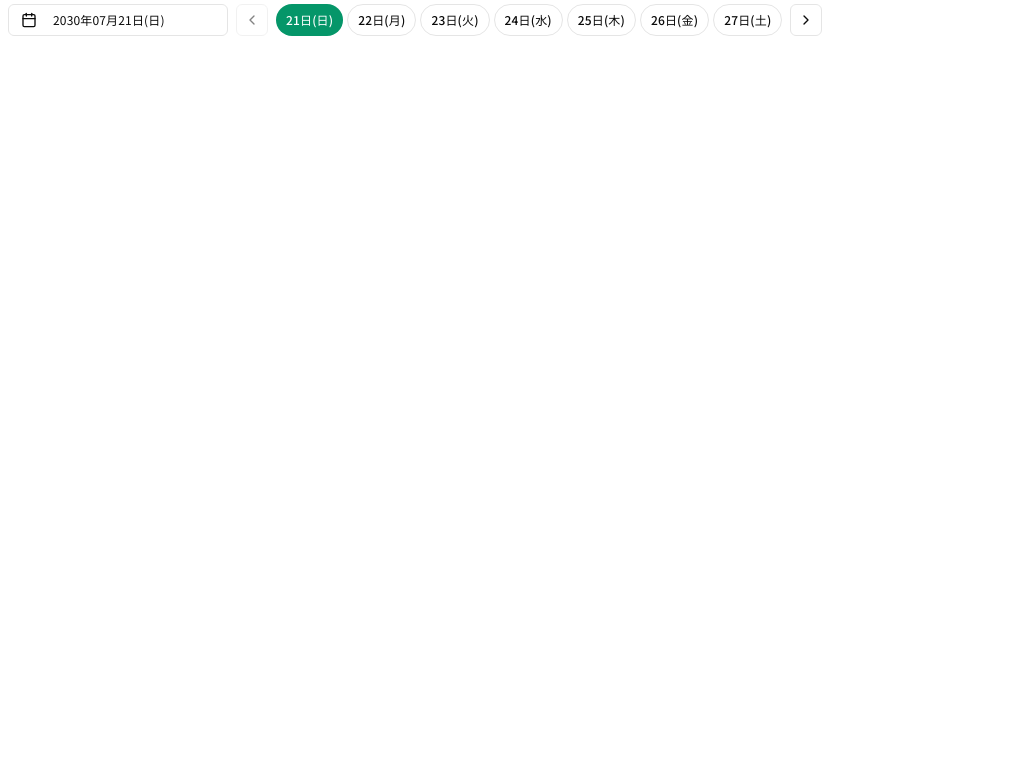
Test case: DateNavigation › disables navigation and calendar choices before today in Japan
Expected: the button named "前の週へ" is disabled, [236,4,268,36]
Click the button "2030年07月21日(日)" at {"x": 118, "y": 20}, box [8,4,228,36]
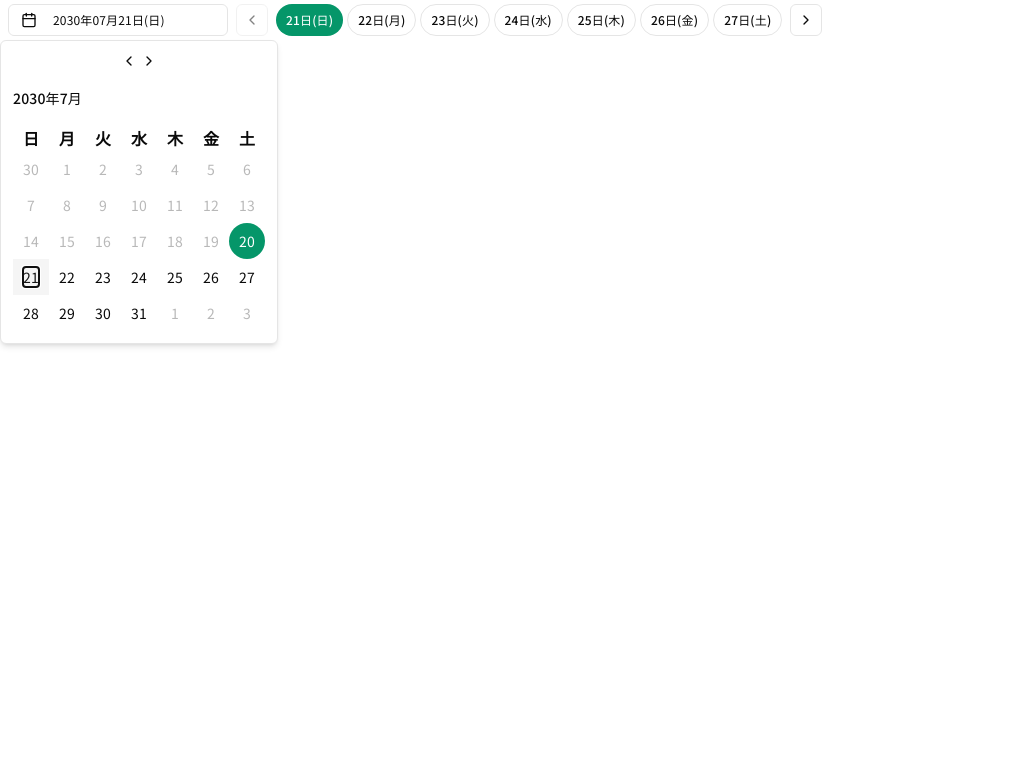
Now the button named "2030年7月20日" is disabled, box [239,231,255,251]
Now the button named "2030年7月21日" is enabled, box [23,267,39,287]
